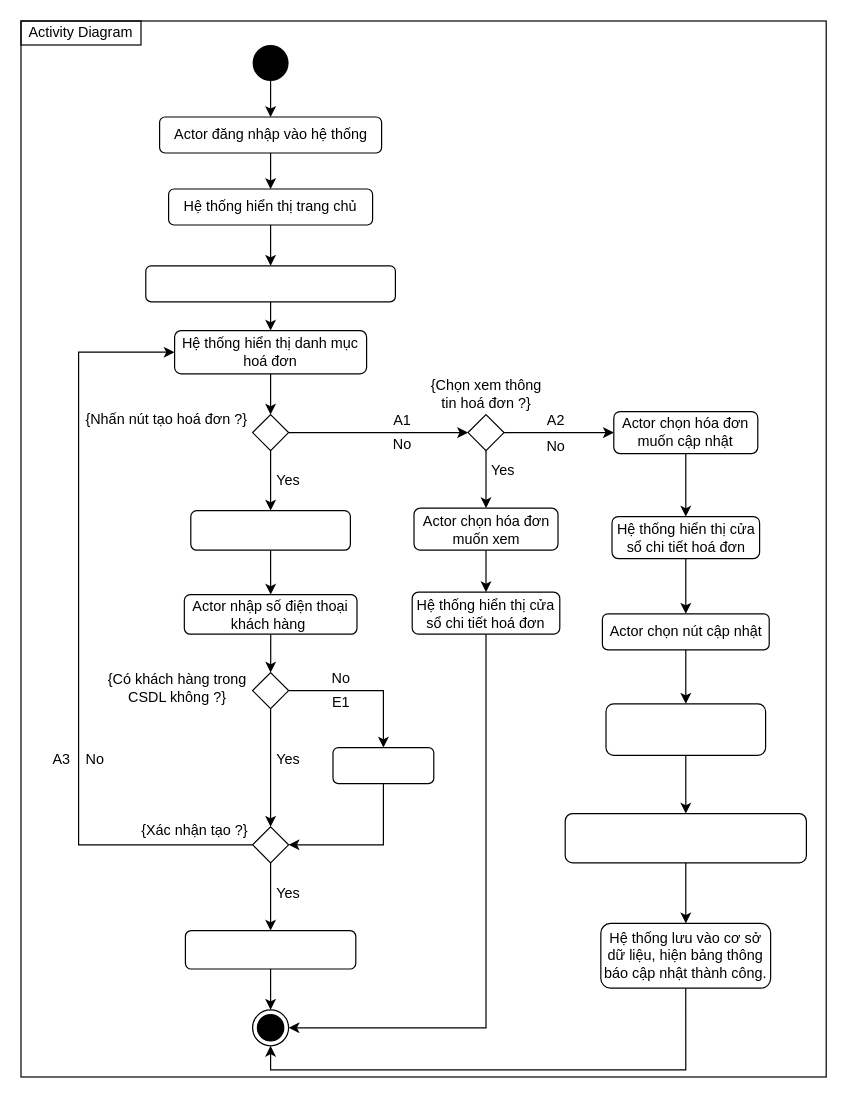
The diagram is 847 pixels wide and 1100 high, and some of its shapes have lost their labels. Here are the shapes that lost their labels. From the top down, the box of each, then its label:
(145, 265, 395, 302): Actor chọn chức năng quản lí hóa đơn
(190, 509, 350, 550): Hệ thống hiển thị form tạo hoá đơn
(605, 703, 766, 755): Hệ thống hiển thị form cập nhật hoá đơn
(332, 746, 434, 784): Tạo khách hàng mới
(564, 812, 806, 863): Actor nhập thông tin cần cập nhật và bấm nút cập nhật
(184, 929, 356, 969): Hệ thống lưu vào cơ sở dữ liệu và in hoá đơn
